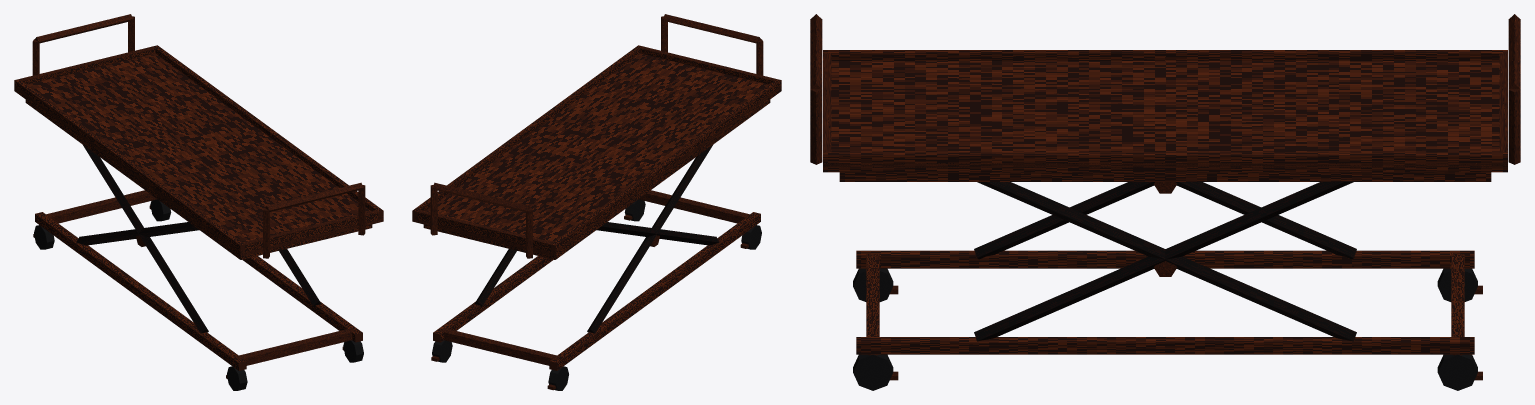
File: morgue_gurney_derelict_decay.glb
3 renders of one model, left to right at view 1: azimuth 30°, elevation 25°; view 2: azimuth 150°, elevation 25°; view 3: azimuth 270°, elevation 25°, orthographic. The views are drawn at different scales.
Parts seen in each view (by area): view 1: morgue_gurney_derelict_decay; view 2: morgue_gurney_derelict_decay; view 3: morgue_gurney_derelict_decay.
Part boxes in pixels (x1,y1,x2,y2): morgue_gurney_derelict_decay: (14,14,383,390); morgue_gurney_derelict_decay: (412,14,781,390); morgue_gurney_derelict_decay: (810,14,1520,390).
Bounding box in the file's own units: 0.75 × 0.978 × 2.13.
Materials: 3 (3 with a texture image).
